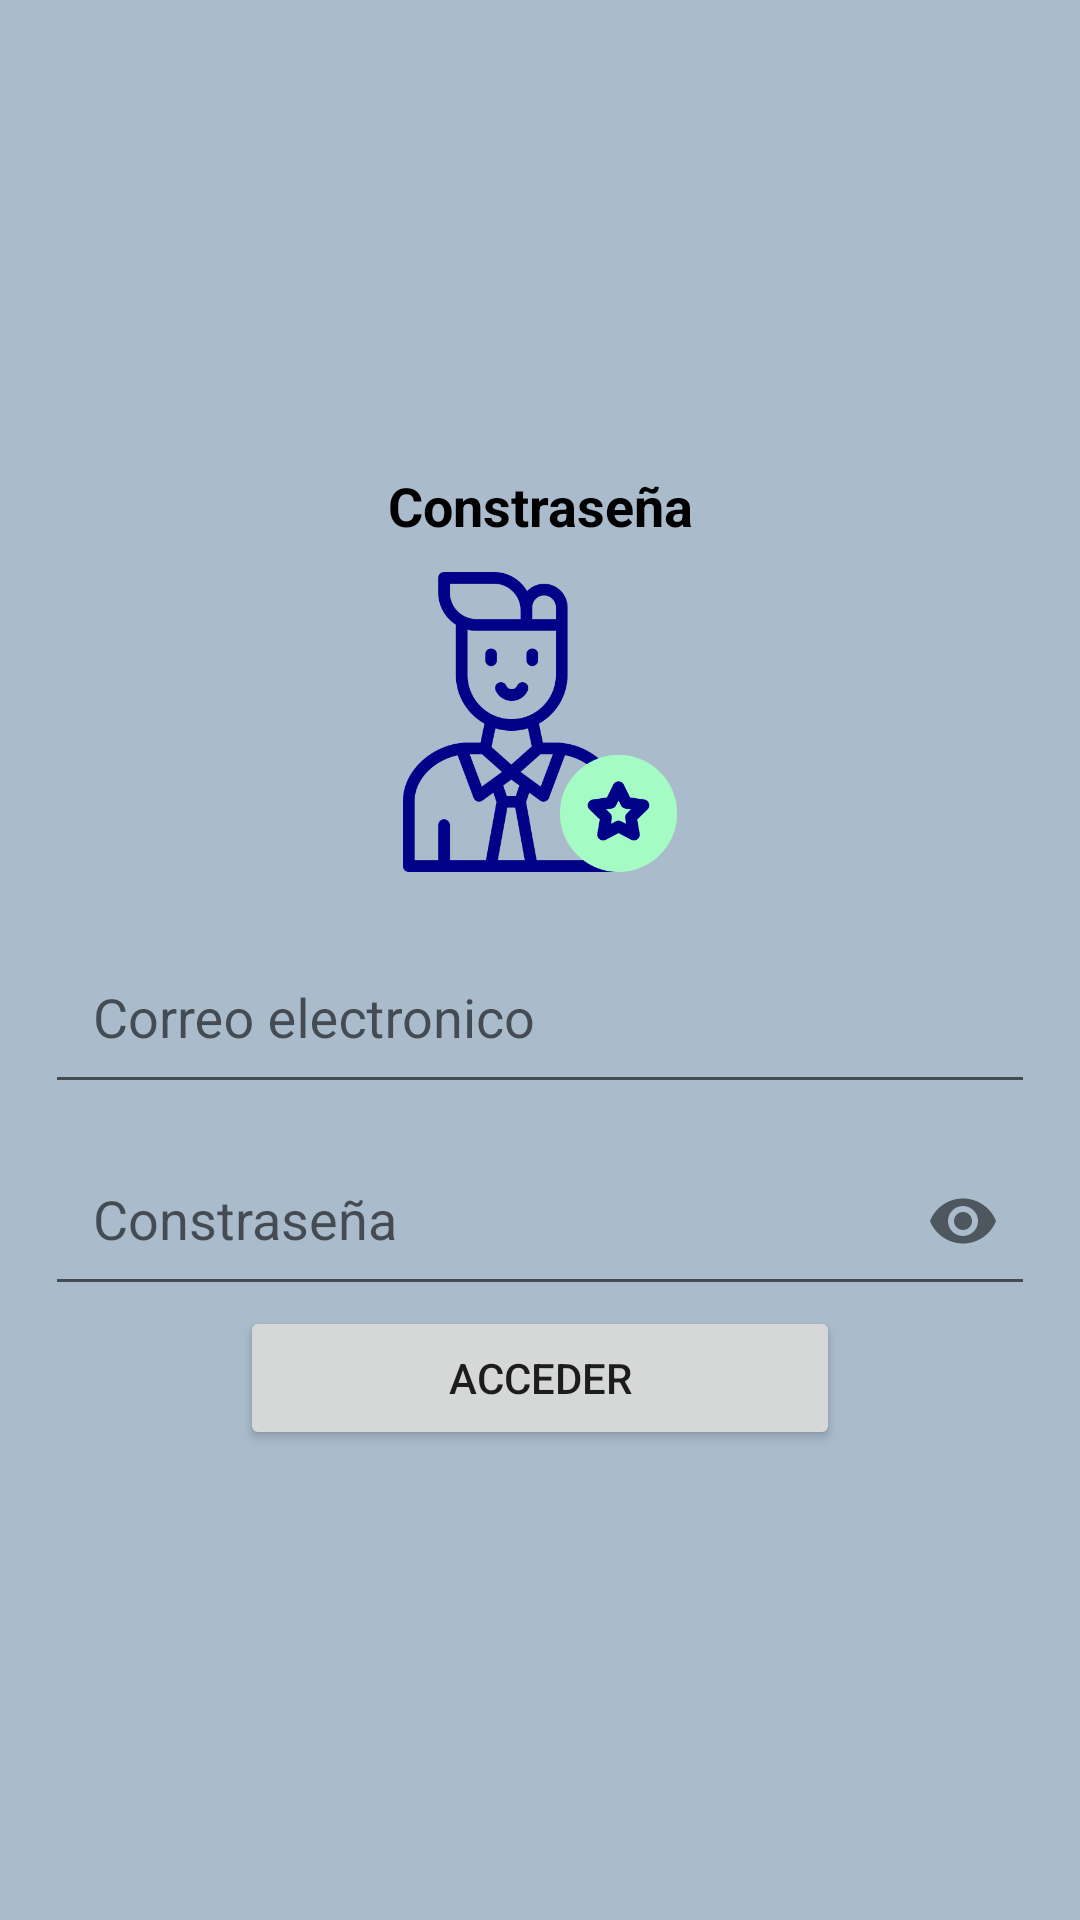

Screen size 1080 x 1920. Icon name, then its center in pixels as point (x, y):
admin: point (540, 722)
